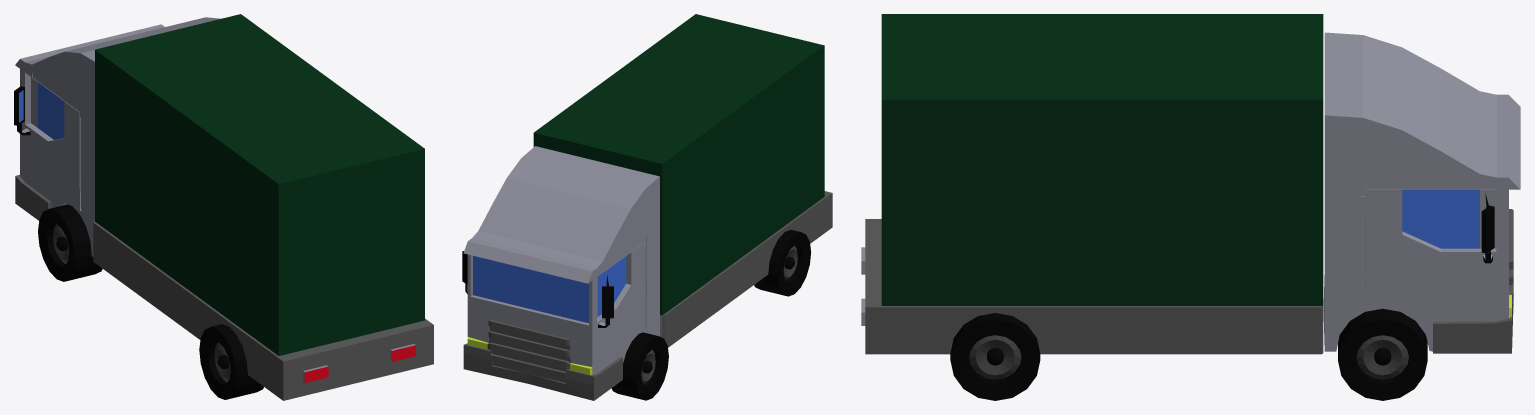
Rendered from truck_3.fbx.
3 renders of one model, left to right at view 1: azimuth 30°, elevation 25°; view 2: azimuth 150°, elevation 25°; view 3: azimuth 270°, elevation 25°, orthographic. The views are drawn at different scales.
Visible parts, largest first — view 1: Truck6; view 2: Truck6; view 3: Truck6.
Boxes of the visible parts, <box> form: Truck6: <box>14,14,433,400</box>; Truck6: <box>462,14,832,400</box>; Truck6: <box>861,14,1520,400</box>.
Size of the model in its own units: 92.1 by 124 by 253.
